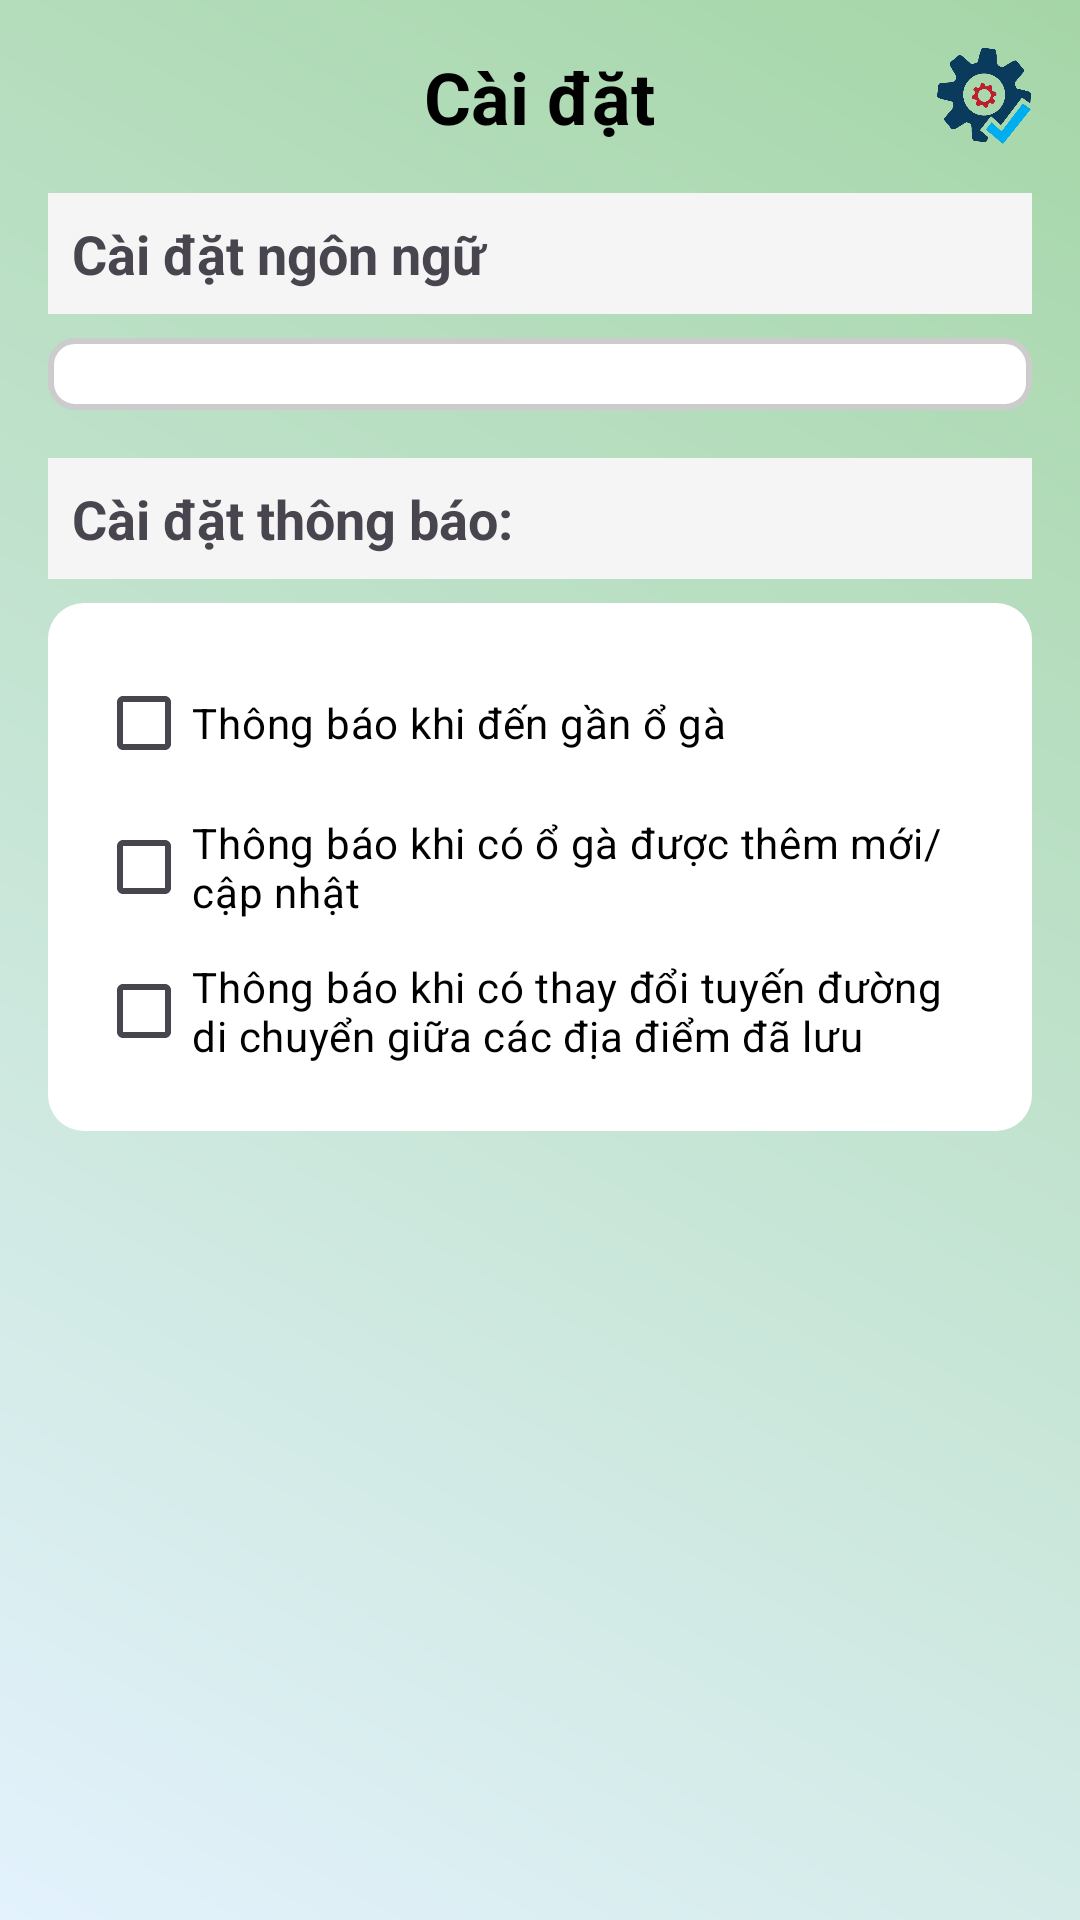

Icons on this 1080*1920 Android screen, each with the point to tap as [x,y]:
Settings Icon: [984,96]
